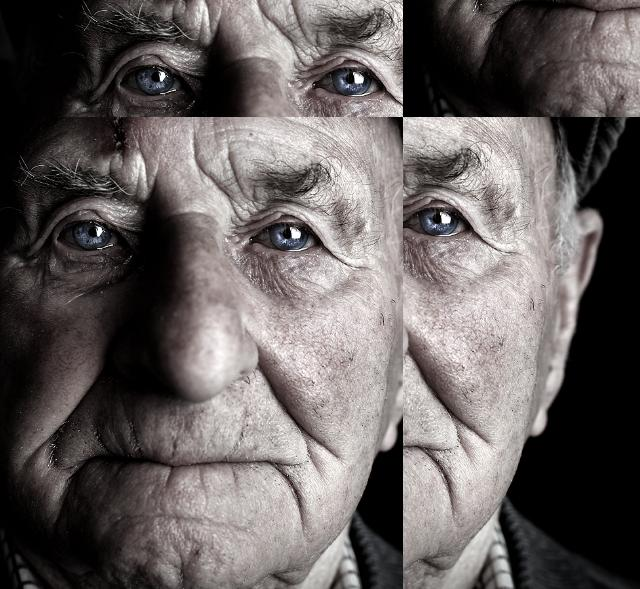crows_feet: (382, 32, 402, 58)
frown_line: (52, 117, 59, 120), (42, 117, 49, 120)
gummy_smile: (410, 349, 460, 429)
masseter: (570, 86, 635, 117), (100, 140, 110, 158)
sad_smile: (428, 455, 462, 508)
